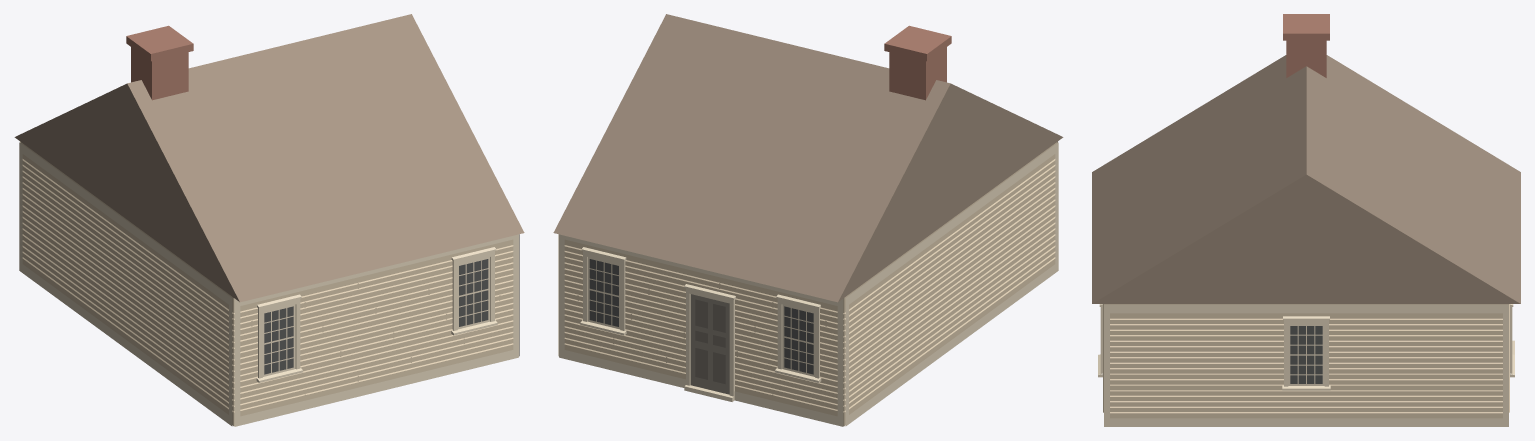
Rendered from recon_1835_north_d4_069__inferred_1835.glb.
3 views of the same model, side by side, from view 1: azimuth 30°, elevation 25°; view 2: azimuth 150°, elevation 25°; view 3: azimuth 270°, elevation 25° (orthographic). The views are drawn at different scales.
Parts seen in each view (by area): view 1: recon_1835_north_d4_069__inferred_1835; view 2: recon_1835_north_d4_069__inferred_1835; view 3: recon_1835_north_d4_069__inferred_1835.
Part boxes in pixels (box(x1,y1,x2,y2)): recon_1835_north_d4_069__inferred_1835: box(14, 14, 524, 426); recon_1835_north_d4_069__inferred_1835: box(553, 14, 1063, 426); recon_1835_north_d4_069__inferred_1835: box(1092, 14, 1520, 426).
Size of the model in its own units: 6.69 by 6.6 by 8.98.
